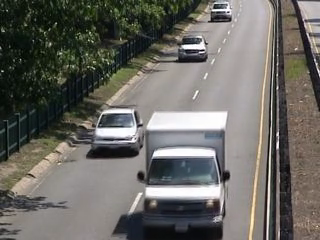car: (91, 106, 147, 155), (175, 33, 209, 64), (210, 1, 235, 25)
truck: (144, 109, 233, 238)
